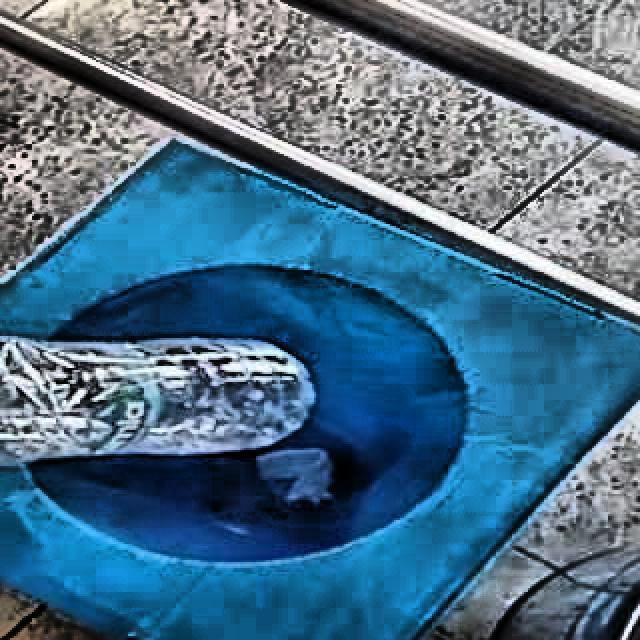plastic: (0, 335, 314, 457)
